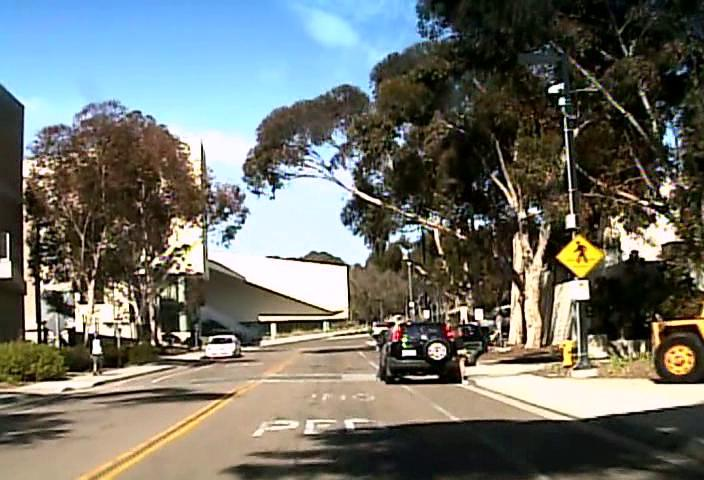pedestrianCrossing: (555, 233, 603, 277)
